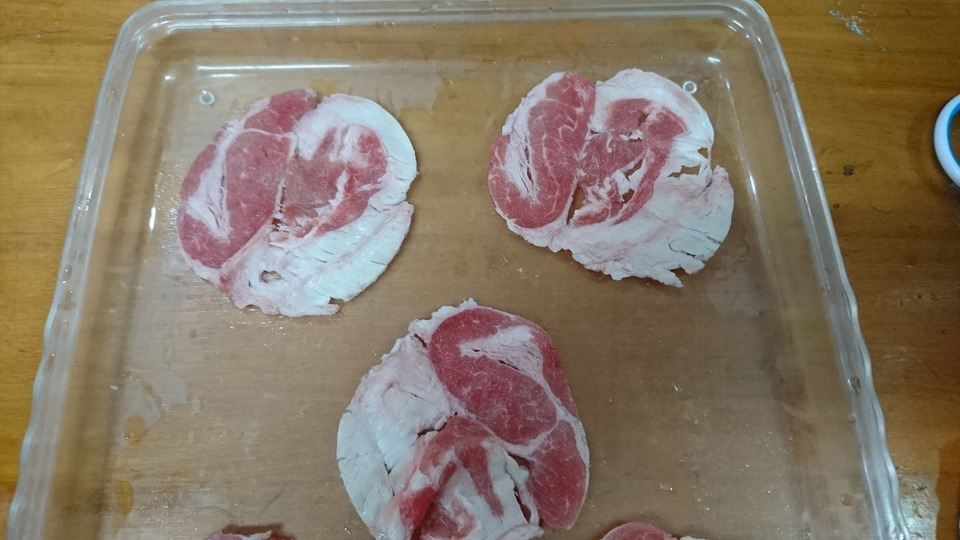restructured meat: (326, 299, 592, 540), (180, 91, 415, 322), (496, 56, 731, 287)
